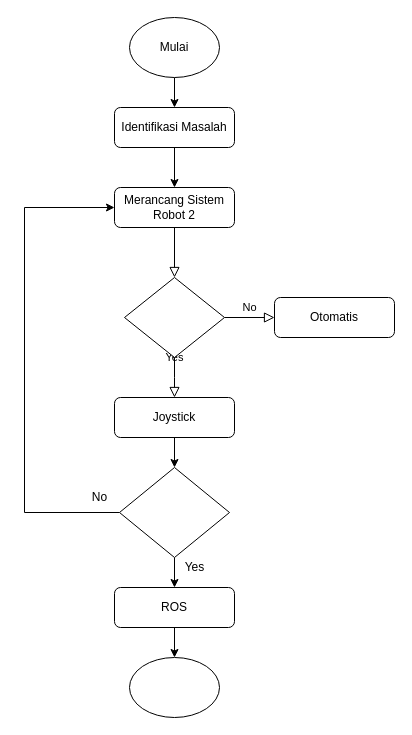
This 412x735 diagram has some shape labels left out. Each missing label, with the centre of its shape:
"Kemudahan Sistem" belongs at (x=174, y=512).
"Manual?" belongs at (x=174, y=317).
"Selesai" belongs at (x=174, y=687).
